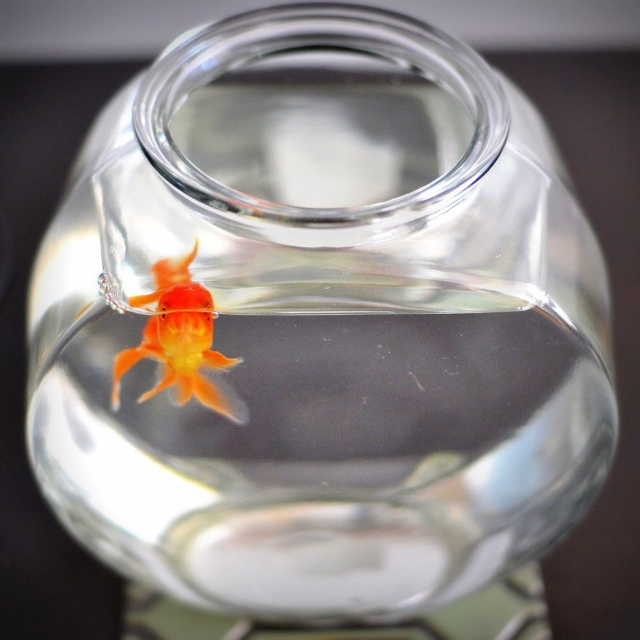Goldfish: (96, 276, 251, 438)
